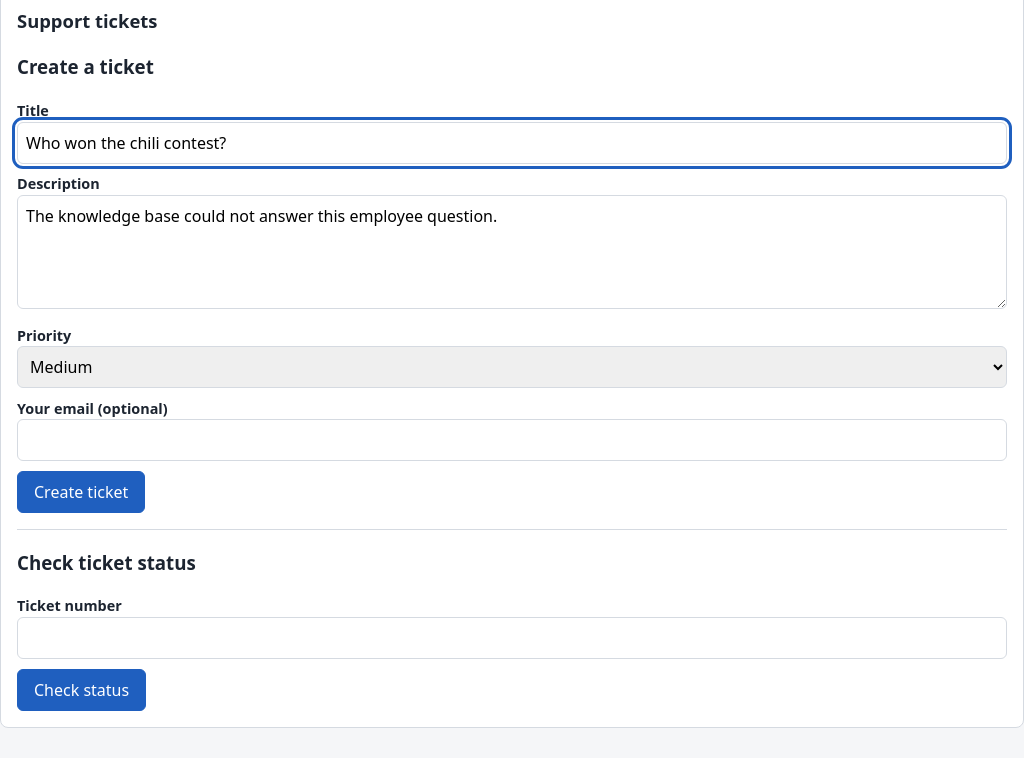
Test: TicketPanel › prefills the form from a chat draft and creates the ticket
This screenshot has width=1024, height=758.
Check: the field labelled "Title" holds "Who won the chili contest?", box [17,122,1007,164]
Step 1. Select "High" in the dropdown labelled "Priority" → coordinates (512, 367), box [17,346,1007,388]
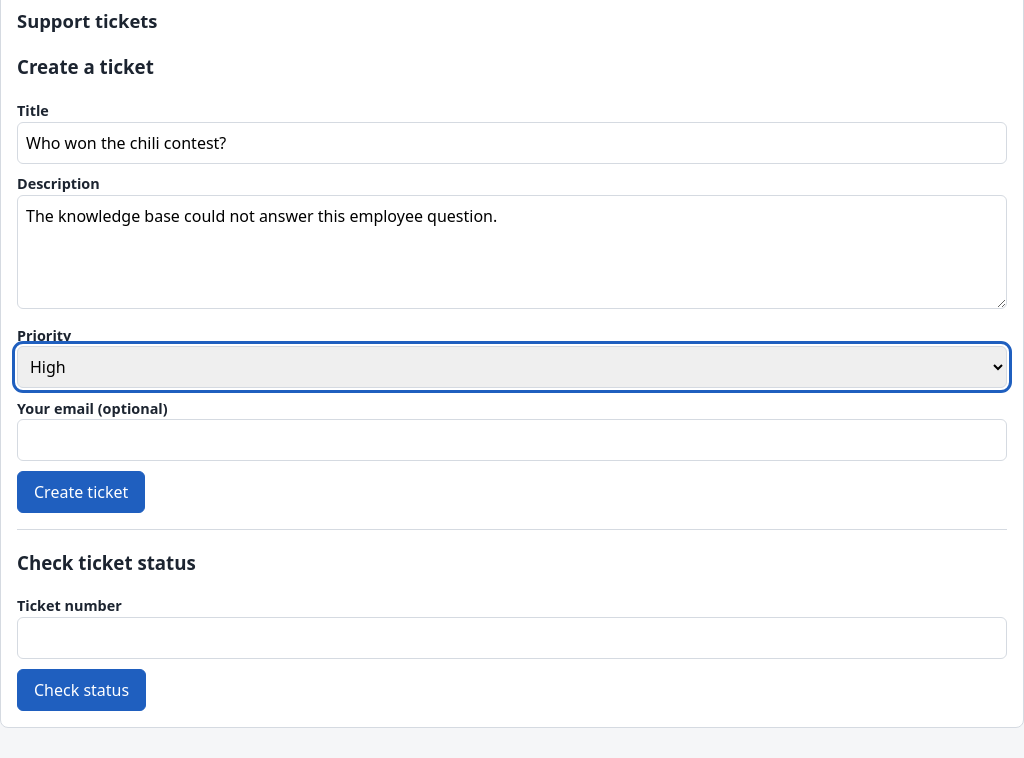
Step 2. Click the button "Create ticket" → coordinates (81, 492), box [17,471,145,513]
(page scrolled)
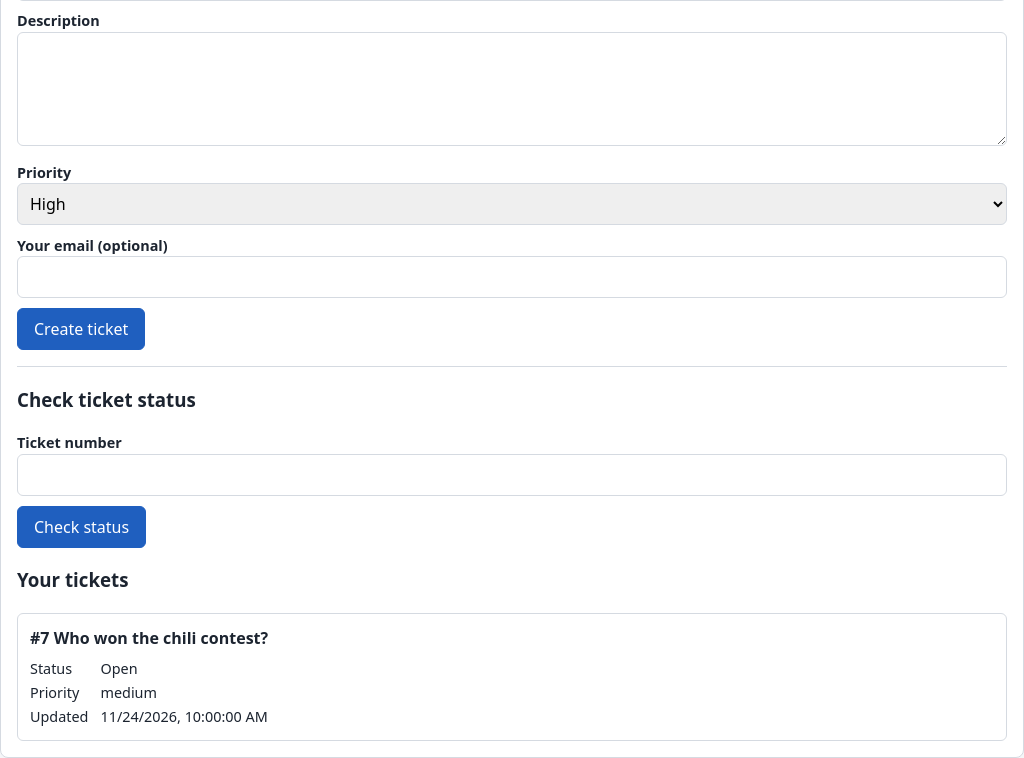
Check: the element named "Ticket 7" shows "Open", box [100,659,138,678]
